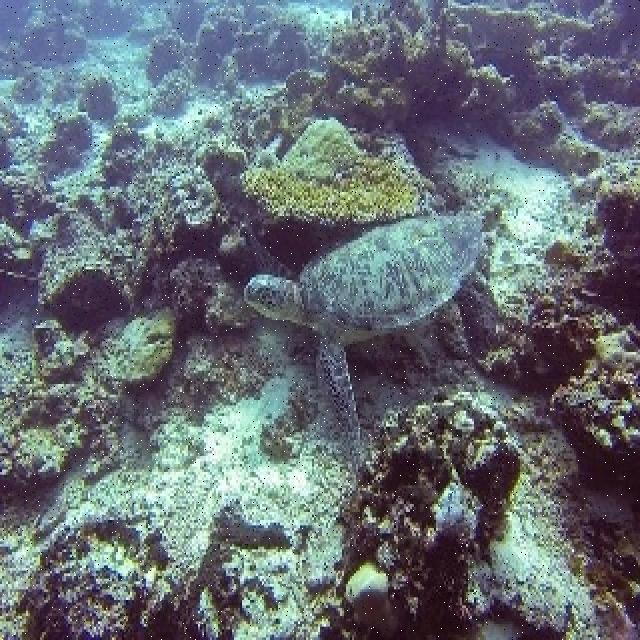fish: (244, 206, 483, 460)
